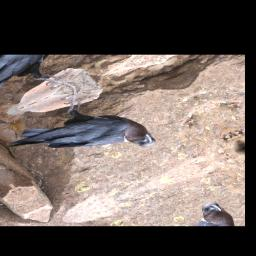Crow: (0, 78, 160, 188)
